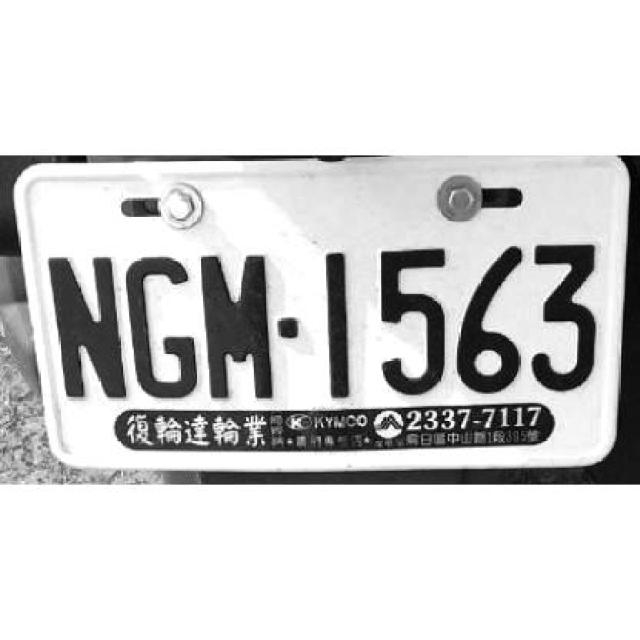-: (277, 315, 301, 343)
1: (323, 249, 352, 400)
3: (531, 243, 598, 394)
5: (376, 246, 450, 399)
6: (452, 242, 526, 392)
G: (126, 253, 197, 402)
M: (197, 254, 274, 398)
N: (45, 250, 128, 397)
